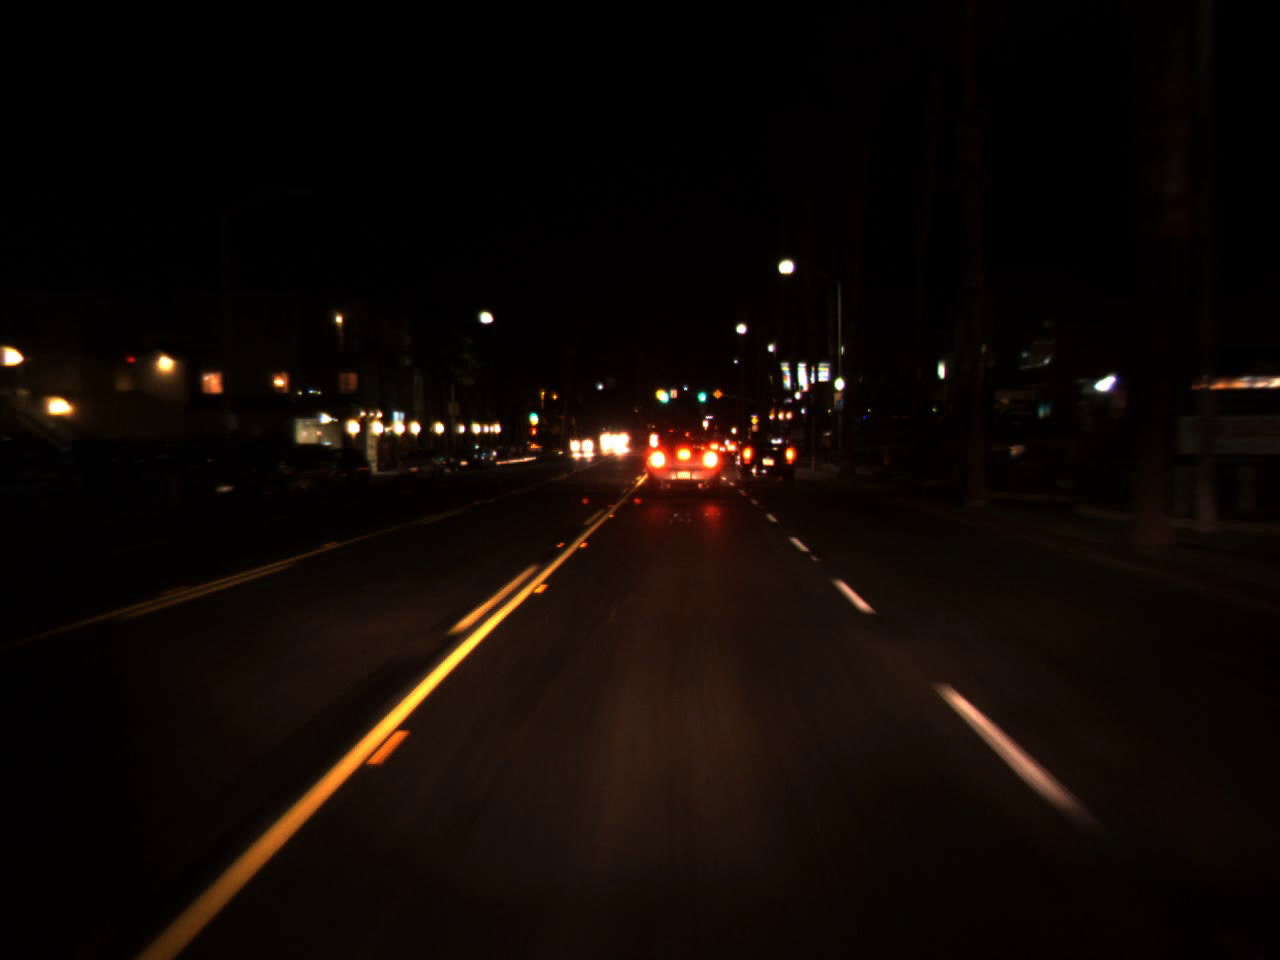go: (657, 382, 669, 406), (695, 382, 705, 406), (526, 405, 538, 420)
